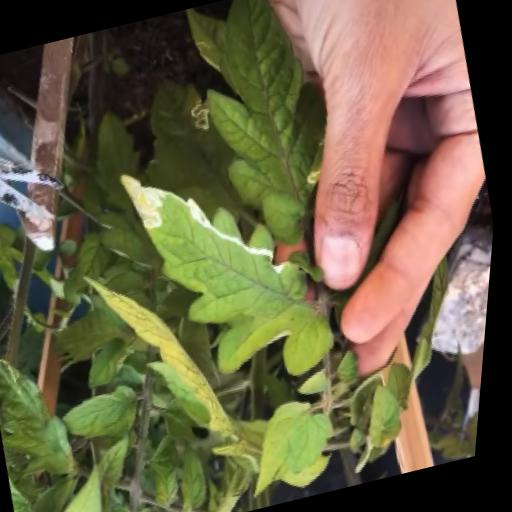Leaf_Miner: (105, 128, 370, 417)
